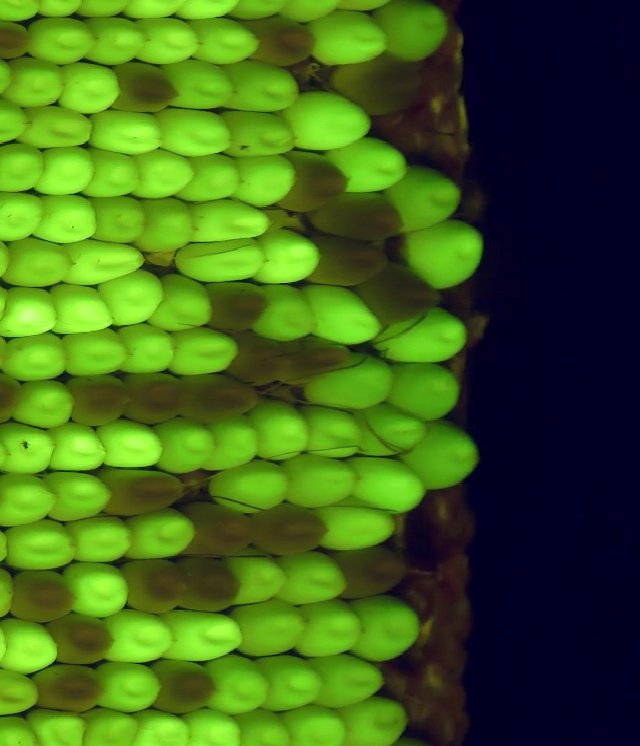fluorescent: (369, 304, 471, 361), (407, 219, 486, 287), (283, 94, 371, 154), (403, 423, 482, 489), (386, 362, 466, 424), (387, 167, 465, 229), (281, 451, 361, 509), (347, 455, 426, 513), (369, 4, 448, 62), (311, 355, 392, 411), (295, 599, 367, 662), (328, 139, 410, 194), (209, 460, 291, 514), (354, 597, 419, 665), (163, 606, 243, 660), (220, 61, 302, 113), (254, 654, 325, 714), (159, 59, 235, 115), (176, 237, 268, 283), (229, 603, 310, 655), (308, 650, 384, 705), (315, 499, 395, 551), (188, 197, 275, 244), (302, 286, 373, 343), (63, 561, 132, 619), (315, 11, 386, 67), (89, 104, 165, 156), (279, 550, 350, 605), (229, 154, 300, 208), (65, 238, 148, 284), (254, 284, 316, 345), (213, 110, 300, 153), (8, 239, 78, 292), (100, 272, 165, 329), (96, 663, 167, 715), (124, 508, 196, 559), (206, 659, 269, 717), (0, 616, 63, 673), (222, 550, 286, 606), (161, 108, 234, 157), (134, 18, 207, 67), (154, 413, 214, 472), (105, 611, 173, 663), (3, 55, 67, 109), (257, 230, 321, 284), (5, 522, 80, 568), (192, 16, 262, 65), (91, 420, 165, 466), (27, 16, 99, 63), (65, 514, 134, 563), (59, 329, 135, 373), (61, 62, 125, 114), (44, 470, 113, 518), (355, 404, 418, 456), (302, 404, 360, 460), (171, 328, 240, 375), (21, 104, 93, 149), (0, 421, 59, 475), (83, 15, 148, 64), (0, 284, 60, 337), (131, 151, 193, 202), (39, 193, 98, 246), (156, 277, 216, 329), (246, 404, 307, 455), (138, 198, 193, 254), (46, 422, 108, 471), (56, 284, 118, 332), (84, 145, 138, 200), (0, 474, 58, 525), (116, 325, 175, 374), (341, 699, 402, 746), (3, 333, 67, 377), (208, 414, 256, 472), (77, 705, 141, 746), (14, 382, 75, 425), (39, 149, 96, 194), (189, 154, 238, 206), (288, 704, 348, 746), (27, 708, 93, 746), (0, 190, 45, 244), (96, 198, 149, 242), (0, 145, 49, 191), (235, 709, 294, 746), (181, 712, 245, 746), (135, 710, 190, 746), (0, 670, 42, 716), (0, 96, 33, 146), (279, 1, 333, 28), (0, 716, 44, 746), (117, 1, 184, 19), (177, 1, 234, 20), (233, 1, 281, 21), (0, 1, 44, 21), (40, 1, 84, 18), (84, 1, 128, 18), (333, 1, 388, 11)
nonfluorescent: (352, 260, 442, 328), (331, 54, 421, 117), (309, 195, 408, 248), (301, 231, 381, 290), (146, 657, 222, 716), (205, 287, 279, 347), (247, 505, 332, 556), (100, 469, 186, 518), (116, 557, 187, 615), (25, 666, 106, 715), (277, 153, 342, 213), (185, 504, 259, 556), (333, 546, 405, 599), (178, 557, 244, 614), (181, 376, 262, 422), (9, 570, 74, 625), (282, 336, 348, 390), (114, 65, 182, 117), (125, 370, 188, 426), (231, 329, 290, 387), (247, 18, 318, 66), (45, 616, 116, 664), (67, 376, 131, 429), (0, 17, 31, 63)
